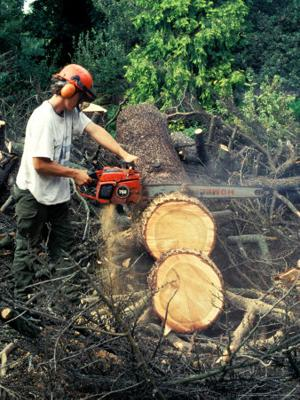person: (9, 63, 139, 342)
